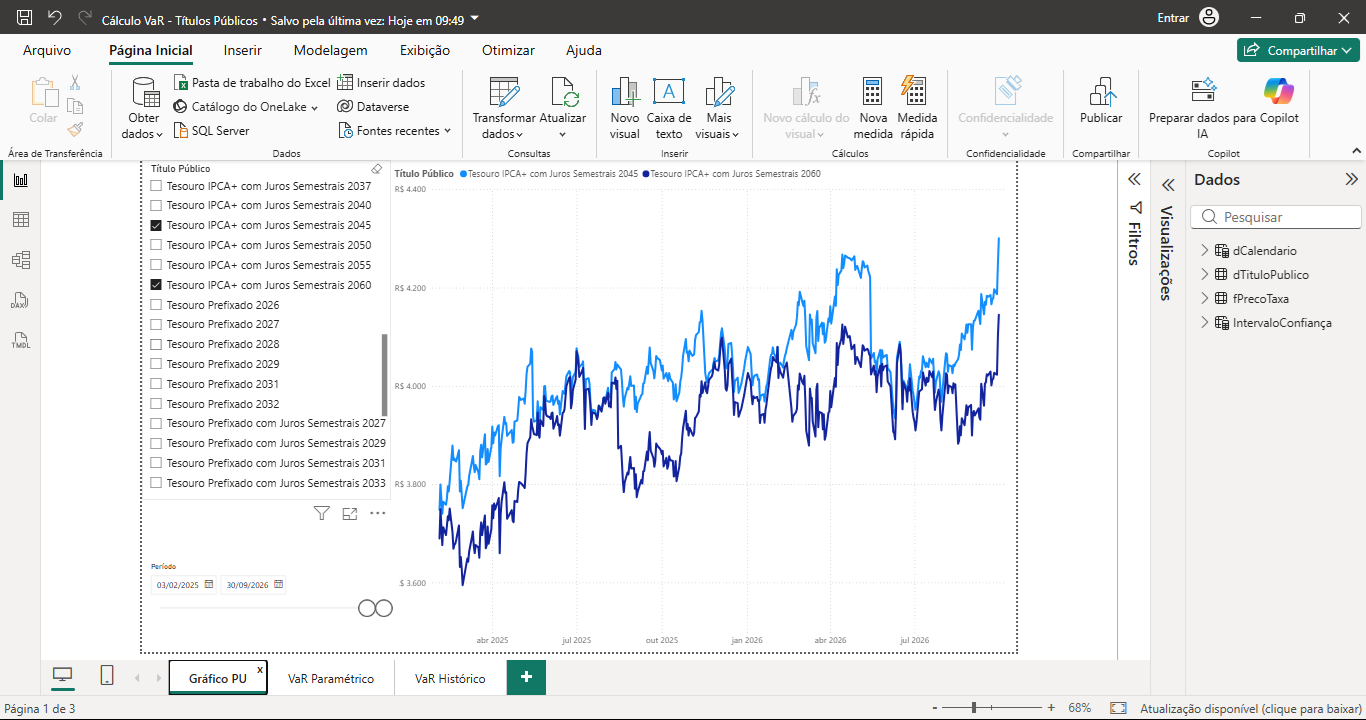

The dashboard page shown, as its layout file describes it:
{"tool":"powerbi","page":{"name":"Gráfico PU","canvas":[1280,720],"ordinal":0},"visuals":[{"type":"lineChart","fields":{"Category":["precotaxatesourodireto.Data Base.Variation.Hierarquia de datas.Ano"],"Y":["Sum(precotaxatesourodireto.PU Base Manha)"],"Series":["precotaxatesourodireto.Título Público"]},"box":[364.5,0,915.5,720.6],"z":0},{"type":"slicer","fields":{"Values":["precotaxatesourodireto.Título Público"]},"box":[0,0,364.4,497.6],"z":1000},{"type":"slicer","fields":{"Values":["fPrecoTaxa.Data Base"]},"box":[0,583.9,374.6,136.1],"z":1001}]}

Visuals, with their boxes on the page's 1280x720 design canvas (x1, y1, x2, y2). These are canvas units, not pixel positions in the 1366x720 screenshot, which may show the page scaled, cropped or inside an application window:
lineChart - precotaxatesourodireto.Data Base.Variation.Hierarquia de datas.Ano x Sum(precotaxatesourodireto.PU Base Manha): bbox(364, 0, 1280, 721)
slicer - precotaxatesourodireto.Título Público: bbox(0, 0, 364, 498)
slicer - fPrecoTaxa.Data Base: bbox(0, 584, 375, 720)
